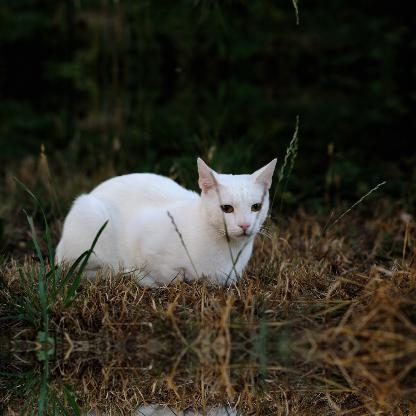Cat: (54, 154, 278, 286)
